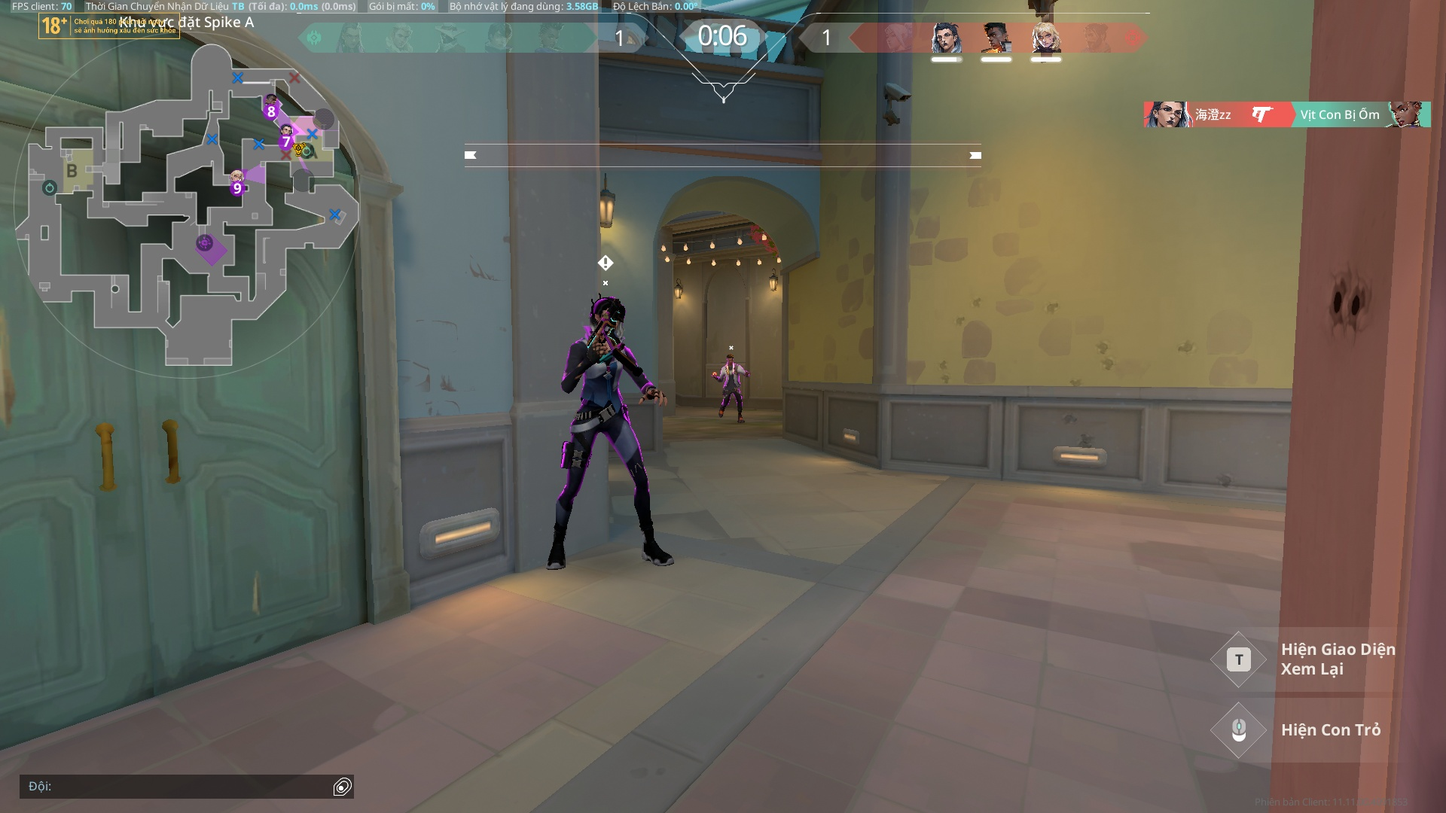body: (570, 332, 636, 413), (719, 363, 743, 387)
head: (587, 297, 625, 340), (725, 353, 734, 365)
